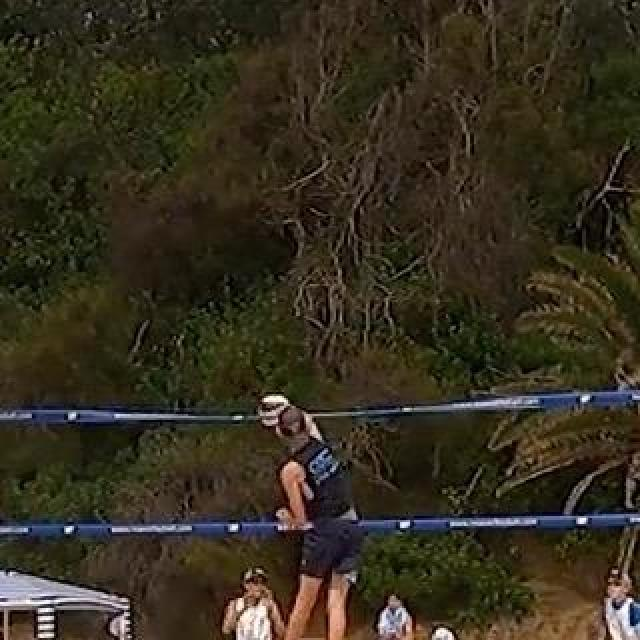volleyball: (262, 392, 290, 416)
